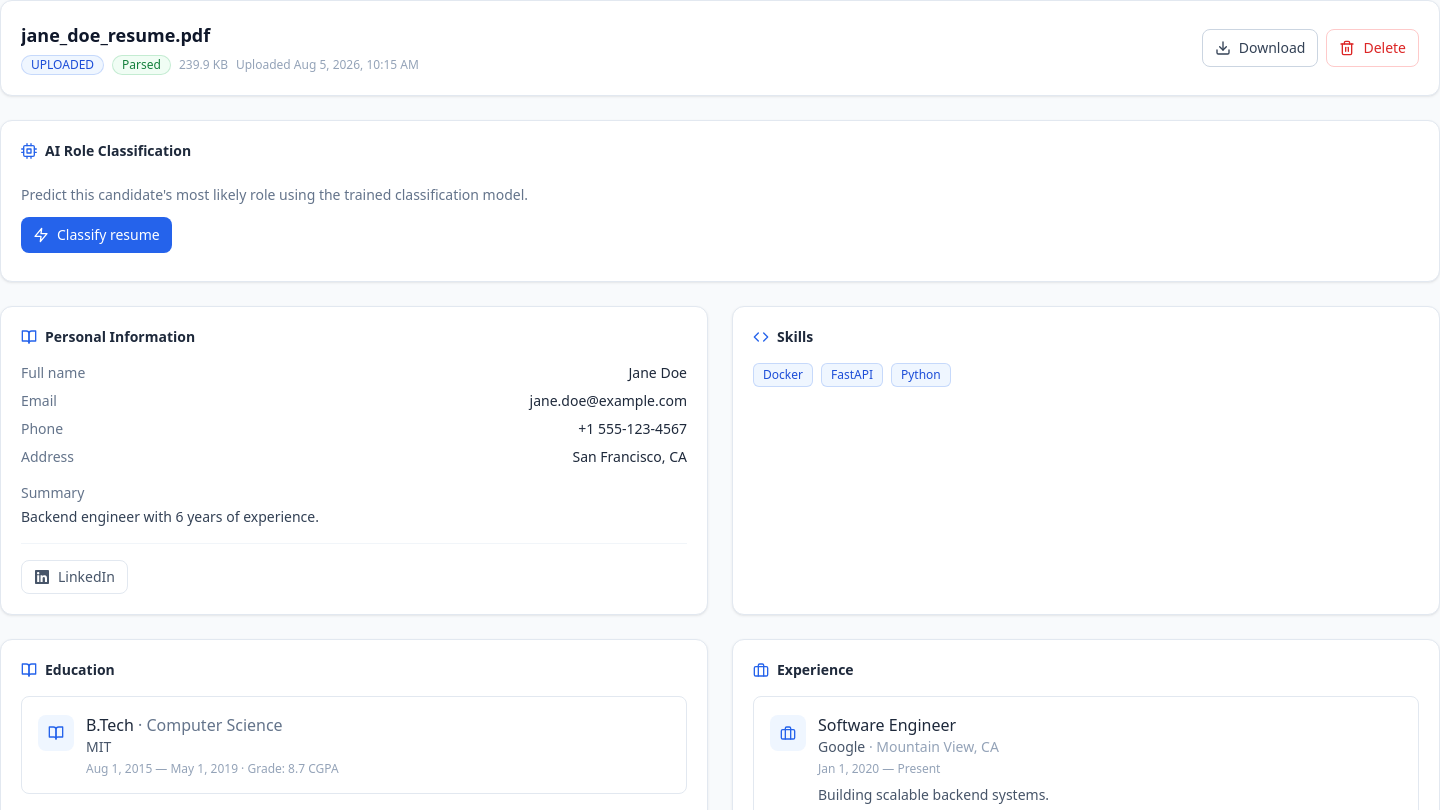
ResumeDetails › classifies on demand and renders the real prediction
Expected: the heading "jane_doe_resume.pdf" is shown, [21,23,210,47]
Click the button "Classify resume".
click(96, 235)  # box [21,217,172,253]
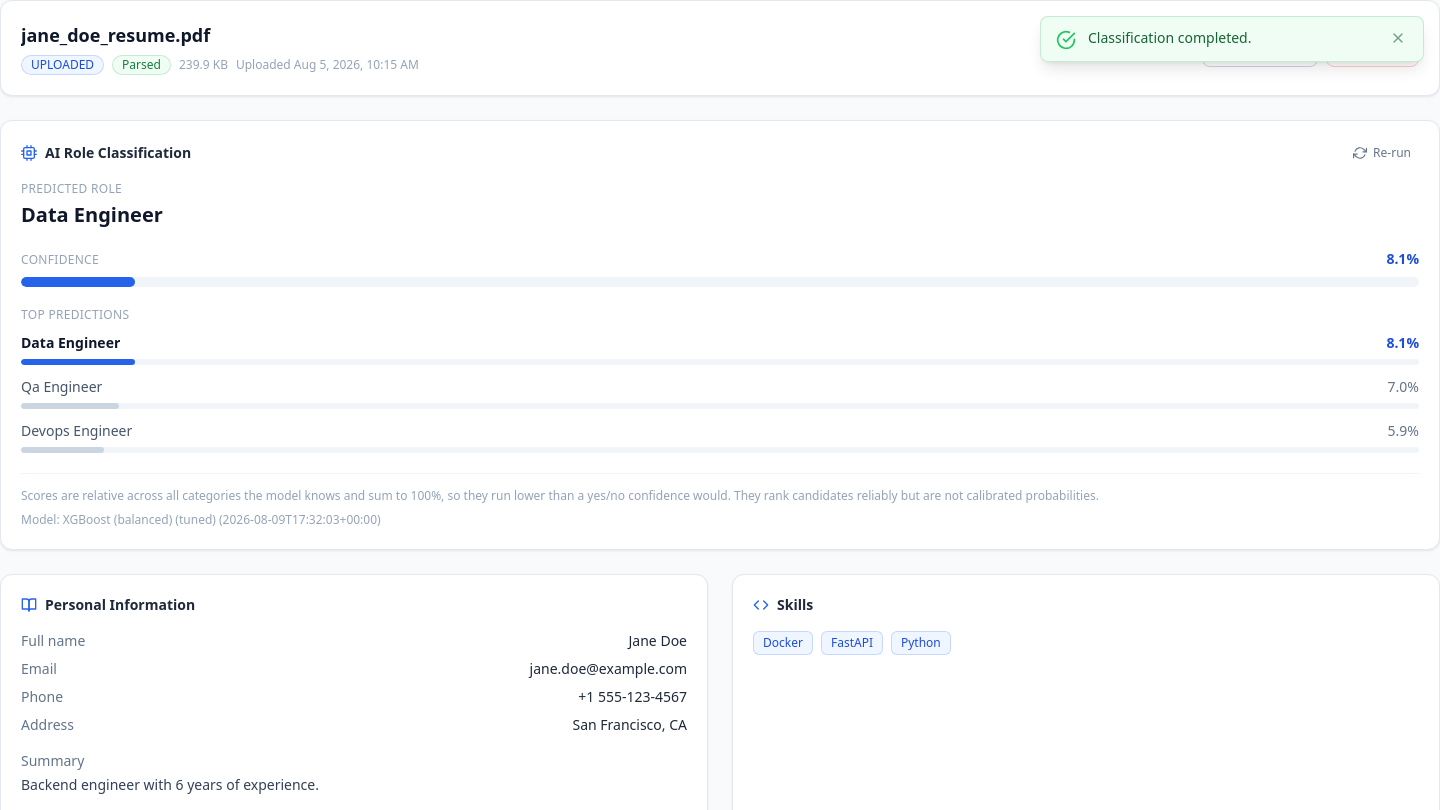
Now the text "Data Engineer" is shown 2 times, box [21,201,163,228]; [21,333,120,353]
Now the 1st text "8.1%" is shown, box [1386,249,1419,269]
